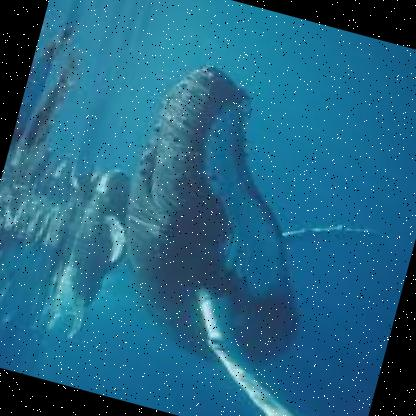blue_whale: (57, 43, 415, 415)
